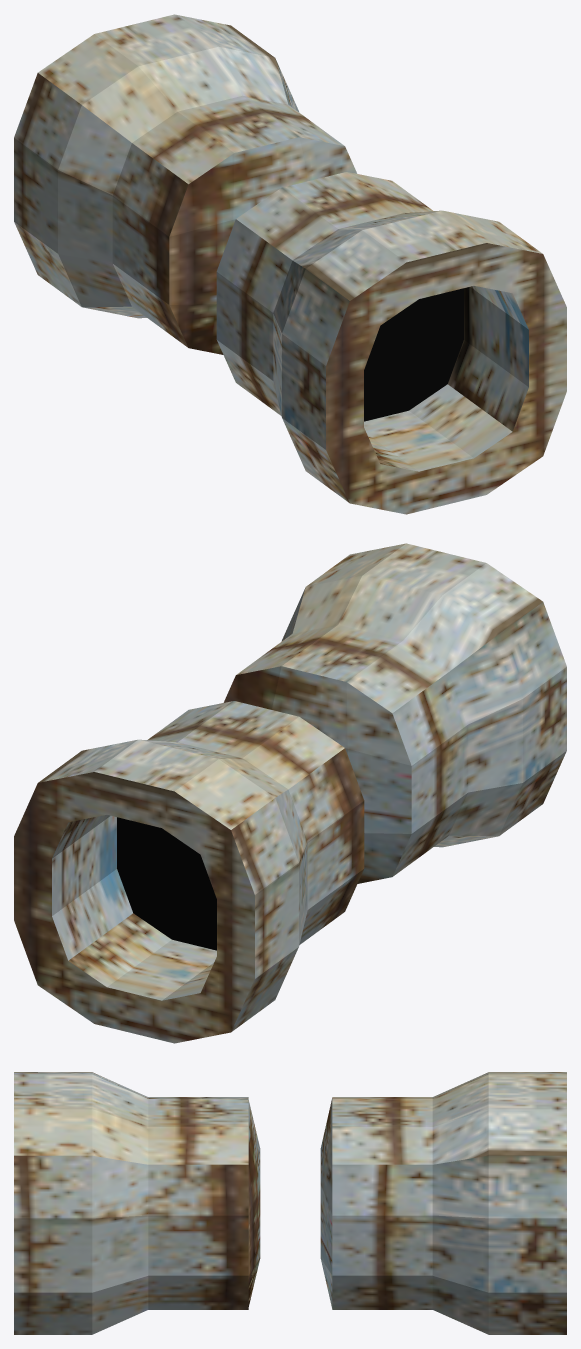
File: Pipe.fbx
3 renders of one model, top to bottom at view 1: azimuth 30°, elevation 25°; view 2: azimuth 150°, elevation 25°; view 3: azimuth 270°, elevation 25°, orthographic. The views are drawn at different scales.
Visible parts, largest first — view 1: Pipe; view 2: Pipe; view 3: Pipe.
Part boxes in pixels (box(x1,y1,x2,y2)): Pipe: box(14, 14, 566, 514); Pipe: box(14, 543, 566, 1043); Pipe: box(14, 1072, 566, 1334).
Size of the model in its own units: 200 by 200 by 449.
